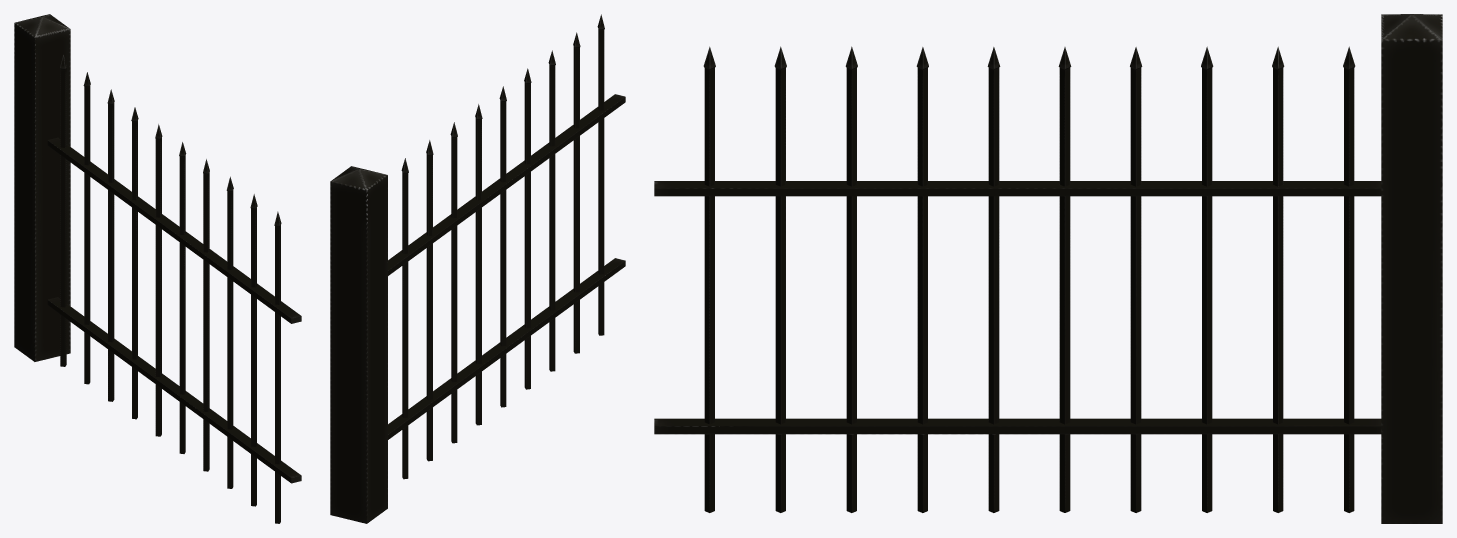
Rendered from Model_Płot_Cmentarz.fbx.
3 renders of one model, left to right at view 1: azimuth 30°, elevation 25°; view 2: azimuth 150°, elevation 25°; view 3: azimuth 270°, elevation 25°, orthographic. The views are drawn at different scales.
Visible parts, largest first — view 1: Plane; view 2: Plane; view 3: Plane.
Boxes of the visible parts, x1=… form: Plane: x1=14, y1=14, x2=301, y2=523; Plane: x1=330, y1=14, x2=625, y2=523; Plane: x1=654, y1=14, x2=1442, y2=523.
Size of the model in its own units: 266 by 185 by 20.73.
